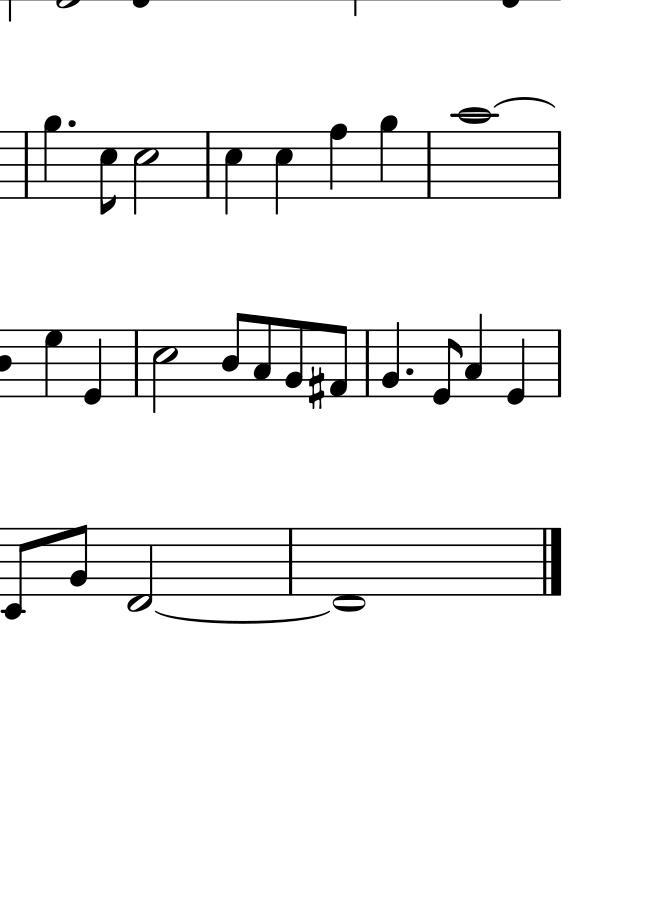1_-1: (330, 526, 368, 613)
1_10: (456, 106, 493, 203)
2_-1: (126, 527, 156, 614)
2_2: (379, 317, 402, 400)
2_5: (150, 326, 180, 415), (131, 130, 159, 217)
4_0: (80, 327, 104, 407), (506, 328, 528, 408)
4_3: (465, 312, 486, 399)
4_5: (273, 128, 296, 217), (224, 130, 244, 218)
4_7: (41, 329, 66, 397)
4_8: (327, 122, 352, 200)
4_9: (42, 115, 64, 201), (379, 114, 400, 200)
8_-2: (3, 526, 34, 622)
8_0: (430, 327, 463, 408)
8_1: (325, 322, 350, 403)
8_2: (68, 523, 92, 599), (283, 318, 305, 400)
8_3: (253, 316, 275, 400)
8_4: (220, 311, 251, 398)
8_5: (97, 131, 120, 216)
Final_barline: (539, 528, 565, 595)
Sharp: (306, 363, 326, 410)
Single_barline: (128, 330, 146, 398), (550, 329, 568, 397), (420, 131, 437, 198), (199, 132, 216, 197), (18, 132, 34, 198), (360, 329, 375, 397), (282, 528, 297, 595)
Slur: (152, 610, 329, 623), (493, 96, 553, 108)
dot: (63, 117, 78, 132), (403, 363, 417, 377)
